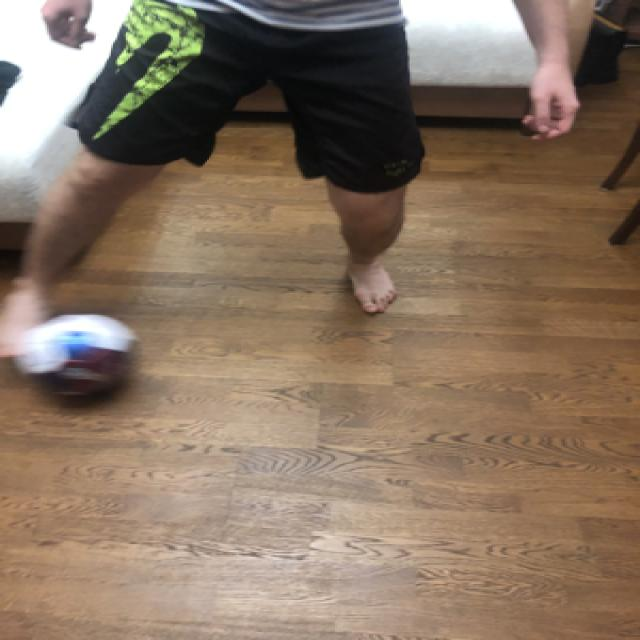soccer_ball: (15, 311, 136, 398)
